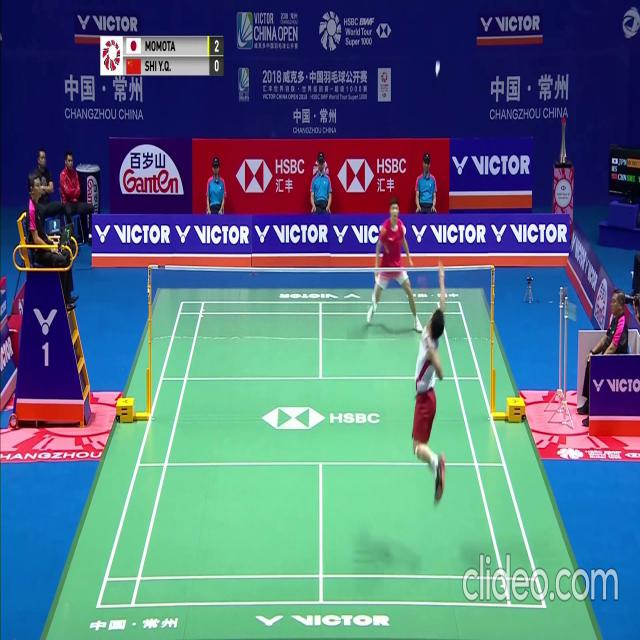Shuttlecock: (435, 72, 439, 79)
